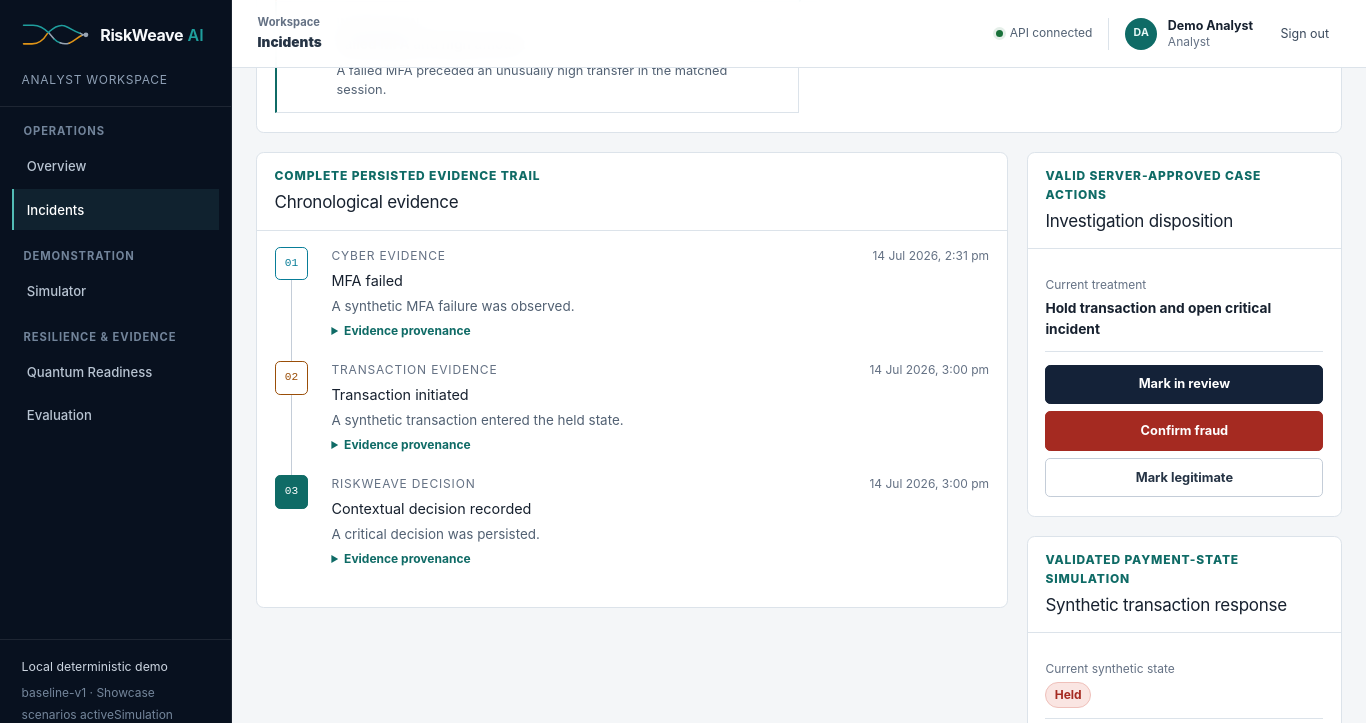
Test: RiskWeave authenticated product › completes a valid analyst transition and reports an idempotent replay
(page scrolled)
Click the button "Mark in review" at (1184, 384), box top-left (1045, 364), bottom-right (1323, 404)
(page scrolled)
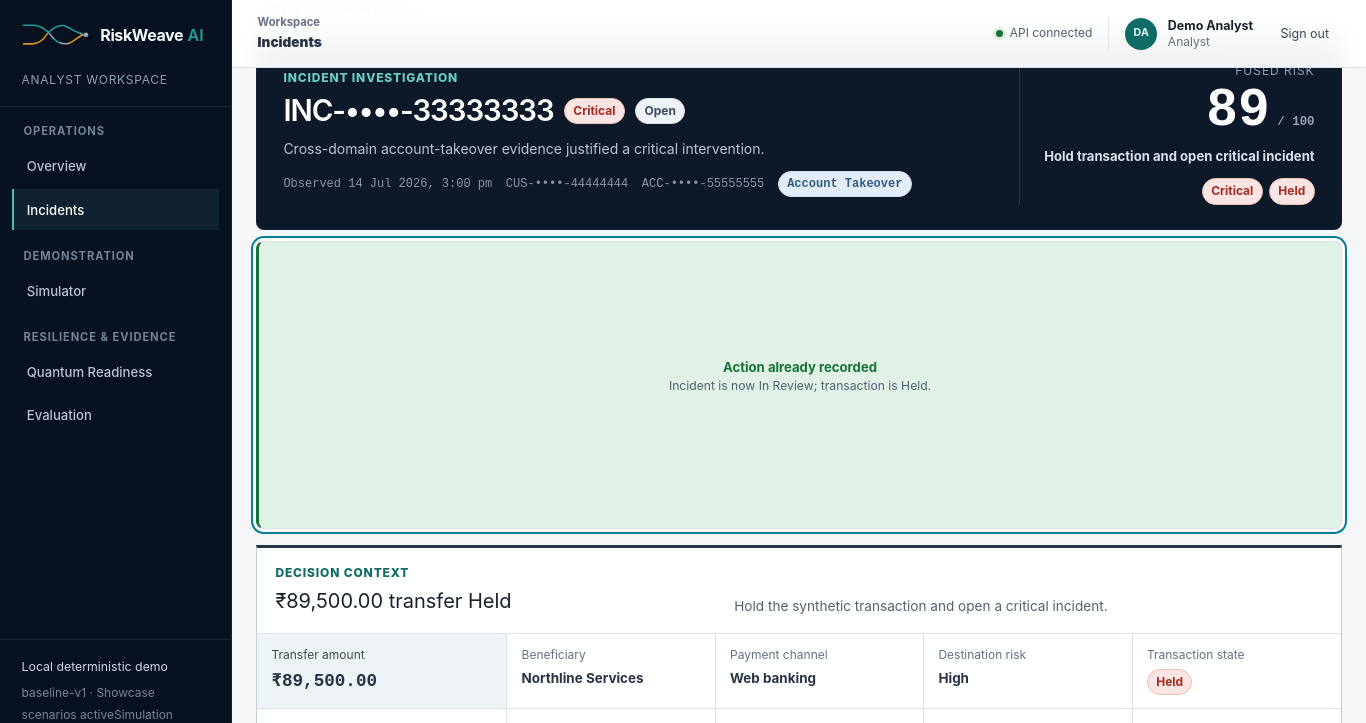
expect the text "Action already recorded" is shown: met, box top-left (723, 358), bottom-right (877, 377)
